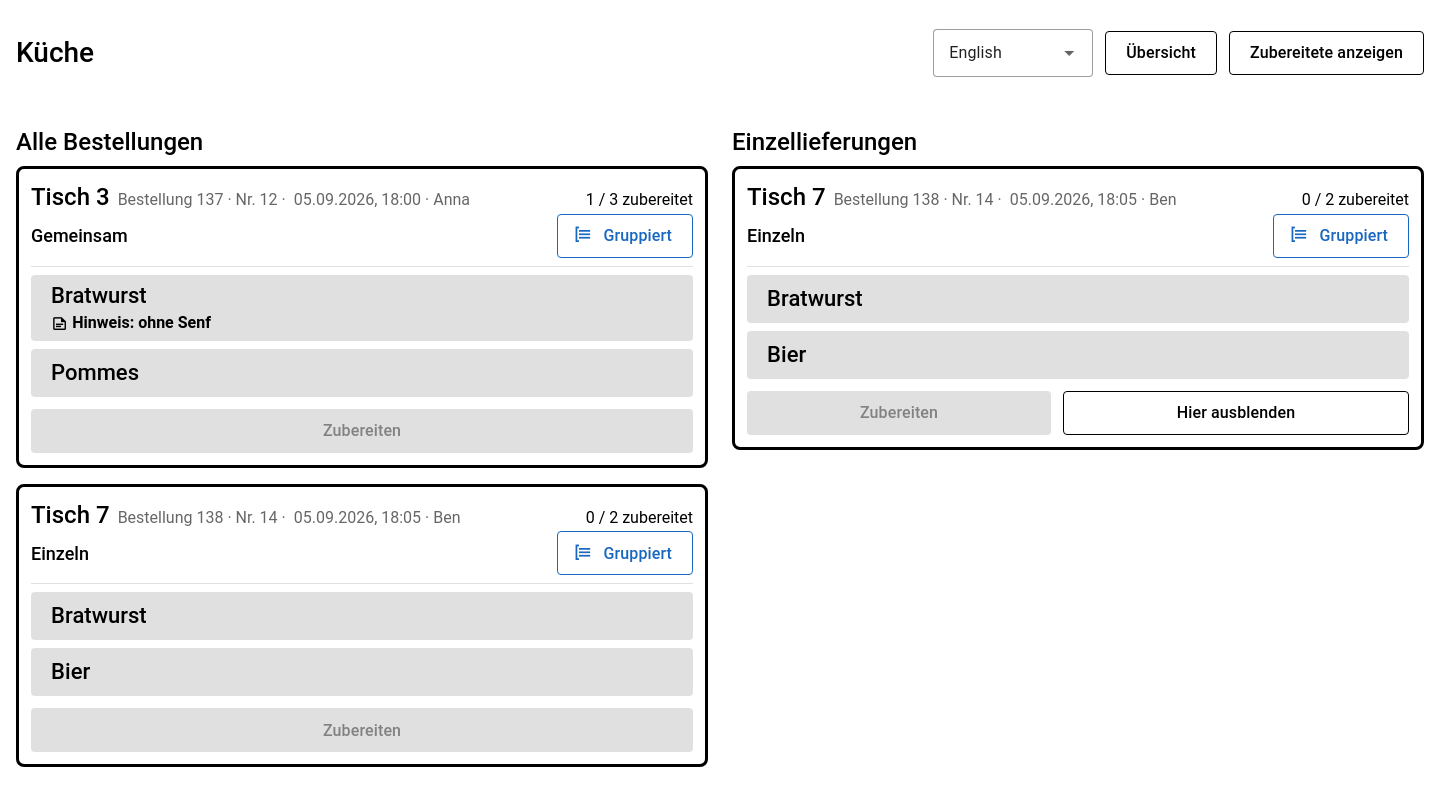
the done view › shows the shared text of an empty list when nothing is done yet
Step 1. Click the button with test id "show-done" → (1326, 53), box [1229,31,1424,75]
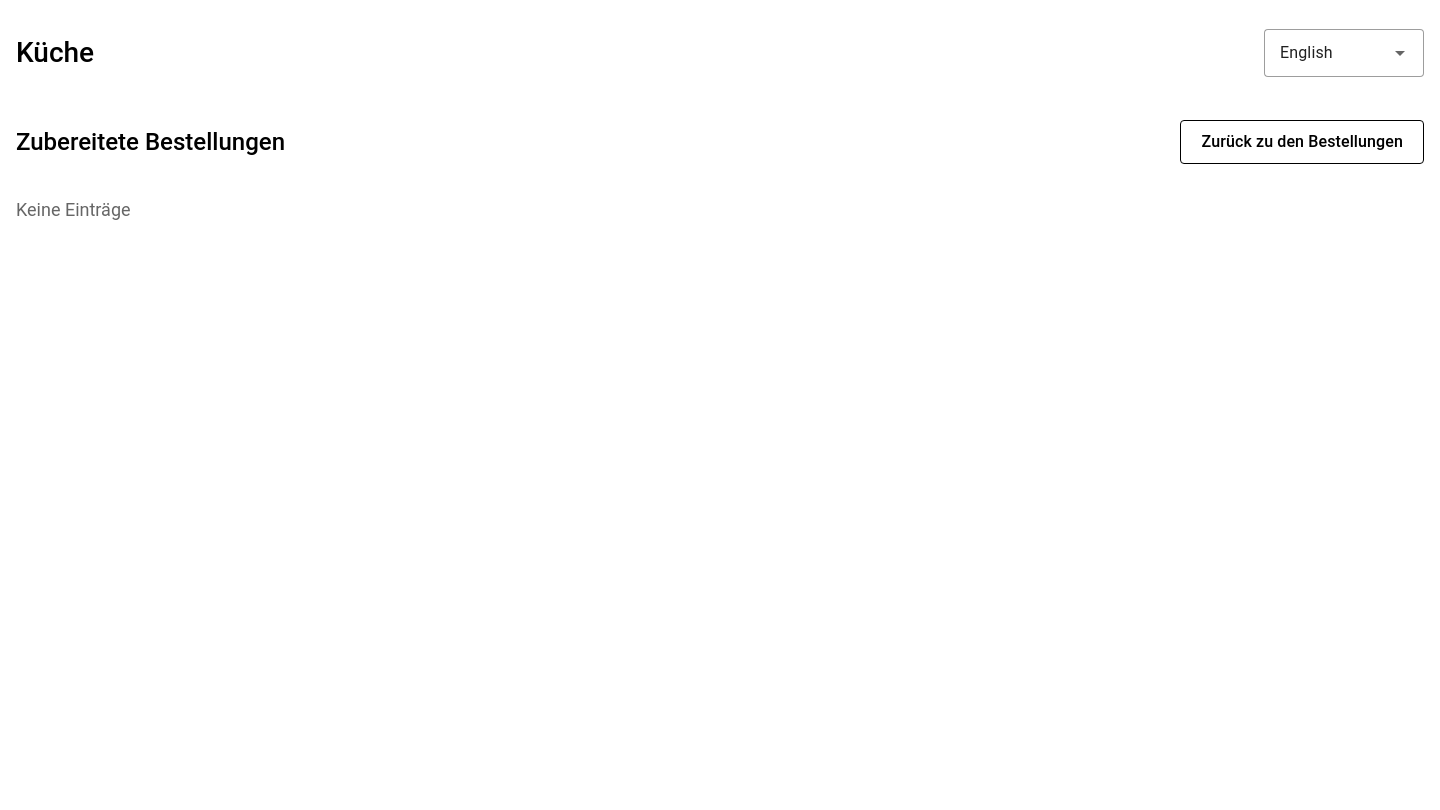
Expected: the text with test id "nothing-done" reads "Keine Einträge", [16,199,131,220]
